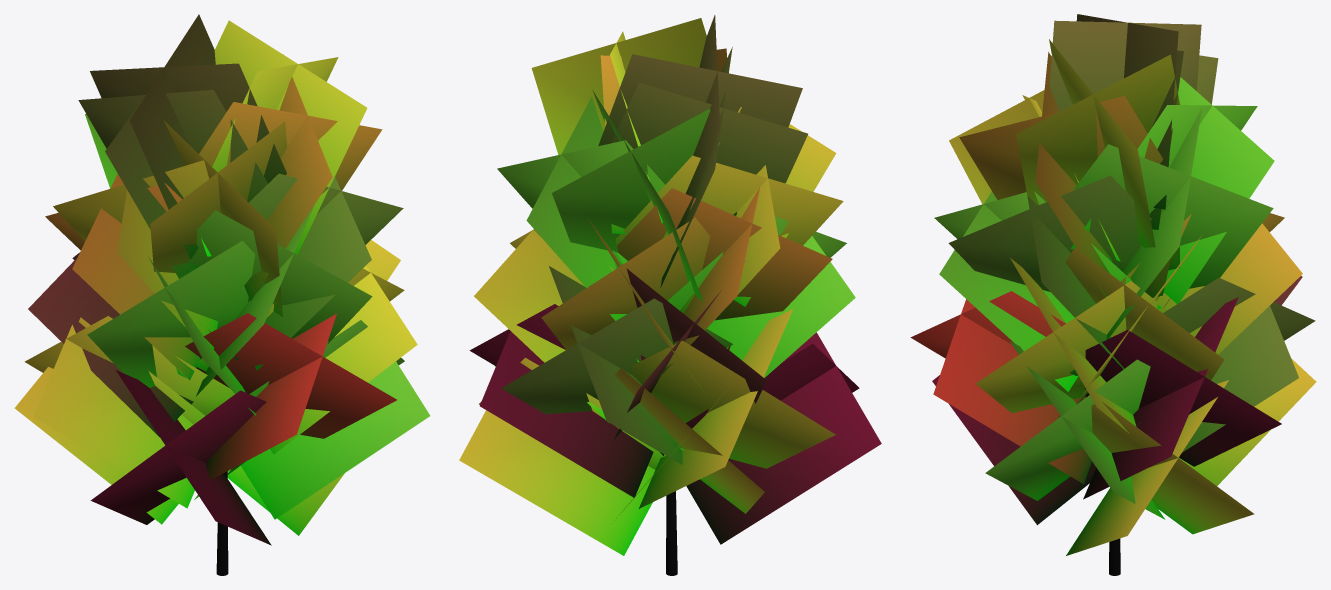
Rendered from Tree_2.fbx.
3 views of the same model, side by side, from view 1: azimuth 30°, elevation 25°; view 2: azimuth 150°, elevation 25°; view 3: azimuth 270°, elevation 25° (orthographic). The views are drawn at different scales.
Parts seen in each view (by area): view 1: Tree_2; view 2: Tree_2; view 3: Tree_2.
Boxes of the visible parts, x1,y1,x2,y2 form: Tree_2: (14,14,430,575); Tree_2: (459,15,881,575); Tree_2: (910,14,1316,575).
Bounding box in the file's own units: 1072 × 1519 × 1024.
